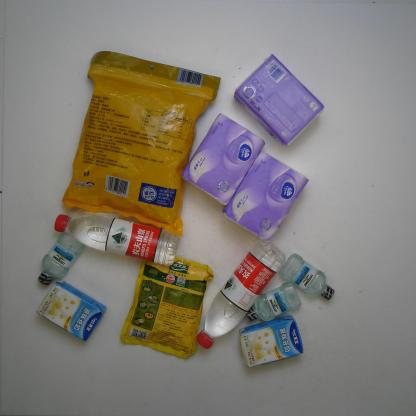Dried Food: (61, 50, 222, 237)
Drink: (196, 238, 286, 350), (53, 211, 180, 267)
Milk: (35, 278, 108, 342), (239, 315, 304, 368)
Personal Hygiene: (278, 252, 335, 301), (38, 232, 86, 286), (246, 282, 302, 324)
Seasoner: (119, 256, 214, 359)
Tissue: (234, 53, 325, 147), (219, 151, 310, 241), (180, 112, 266, 205)
